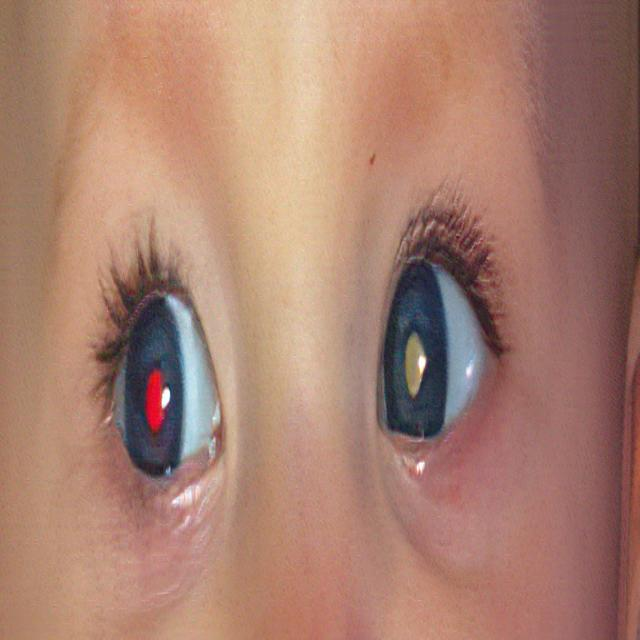reflexo-alterado: (367, 224, 507, 474)
reflexo-normal: (94, 278, 221, 510)
